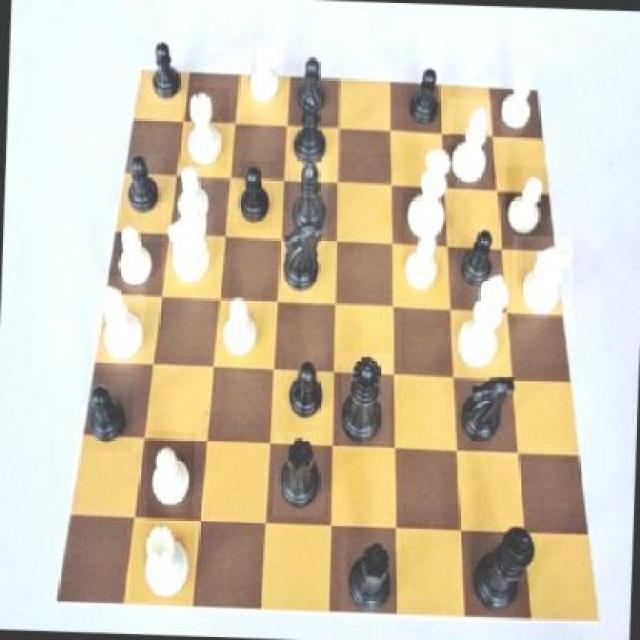bishop: (286, 152, 329, 242), (289, 86, 329, 173)
black-bishop: (463, 526, 539, 620)
black-king: (454, 371, 514, 457), (277, 211, 326, 306)
black-knight: (81, 371, 134, 453), (283, 343, 328, 426), (449, 223, 497, 297), (402, 61, 446, 134), (290, 43, 334, 116), (144, 34, 186, 106), (120, 150, 164, 218), (237, 160, 275, 229)
black-pawn: (338, 352, 392, 450)
black-queen: (340, 536, 399, 626), (272, 431, 326, 517)
black-rook: (96, 276, 146, 368), (446, 98, 494, 188)
white-bishop: (451, 268, 511, 374)
white-king: (510, 236, 574, 320), (158, 202, 214, 288)
white-knight: (144, 431, 194, 521), (110, 217, 158, 300), (212, 289, 266, 360), (503, 166, 550, 247), (166, 154, 211, 234), (397, 226, 443, 300), (496, 60, 540, 137), (243, 40, 286, 117)
white-pawn: (400, 143, 457, 251)
white-queen: (130, 523, 194, 603), (178, 86, 230, 169)
